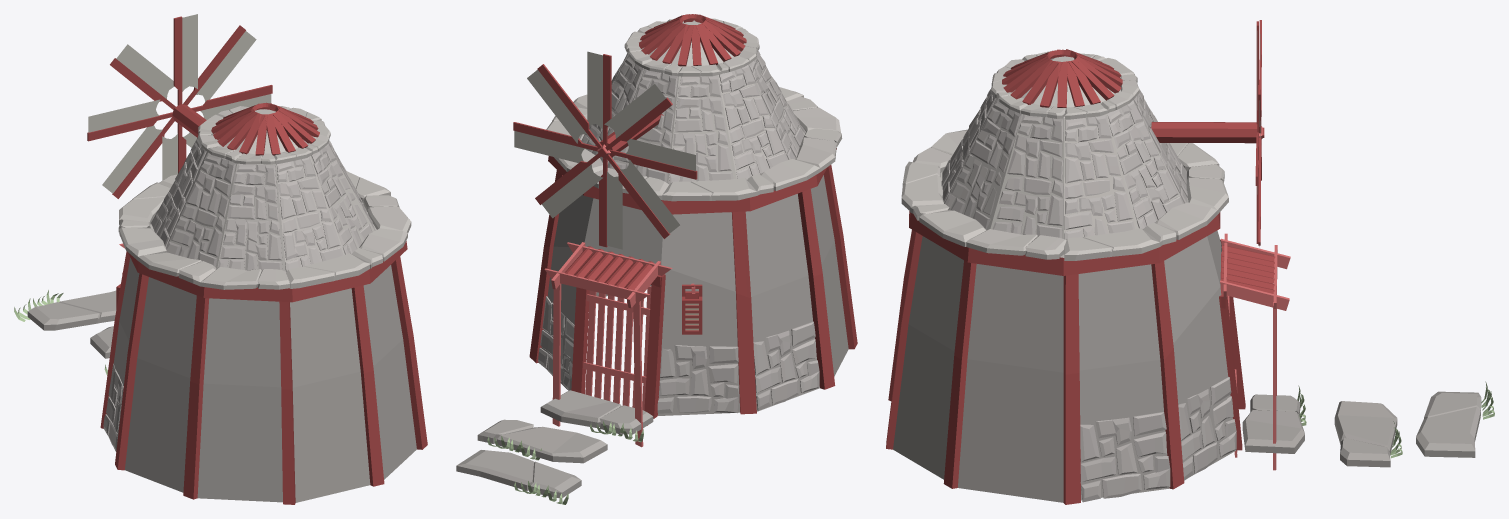
Rendered from ER_Asset_WindMill.fbx.
The picture shows the model from 3 angles, left to right: view 1: azimuth 30°, elevation 25°; view 2: azimuth 150°, elevation 25°; view 3: azimuth 270°, elevation 25°; orthographic projection. The views are drawn at different scales.
Parts seen in each view (by area): view 1: polySurface4346, polySurface4660; view 2: polySurface4346, polySurface4660; view 3: polySurface4346, polySurface4660.
Boxes of the visible parts, x1,y1,x2,y2 form: polySurface4346: (14, 102, 427, 504); polySurface4660: (87, 14, 272, 198); polySurface4346: (456, 14, 857, 504); polySurface4660: (513, 51, 697, 249); polySurface4346: (886, 49, 1494, 504); polySurface4660: (1151, 20, 1264, 246).
Size of the model in its own units: 5.38 by 6.7 by 8.74.
